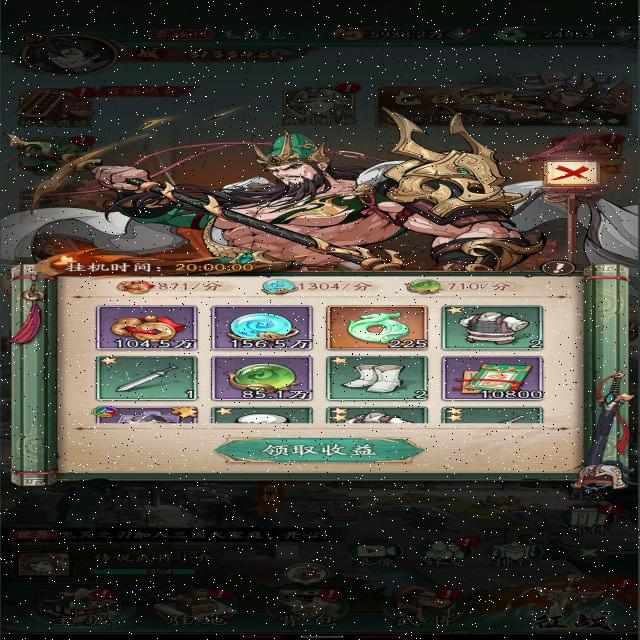operation-close: (535, 158, 603, 190)
operation-confirm: (210, 434, 427, 465)
